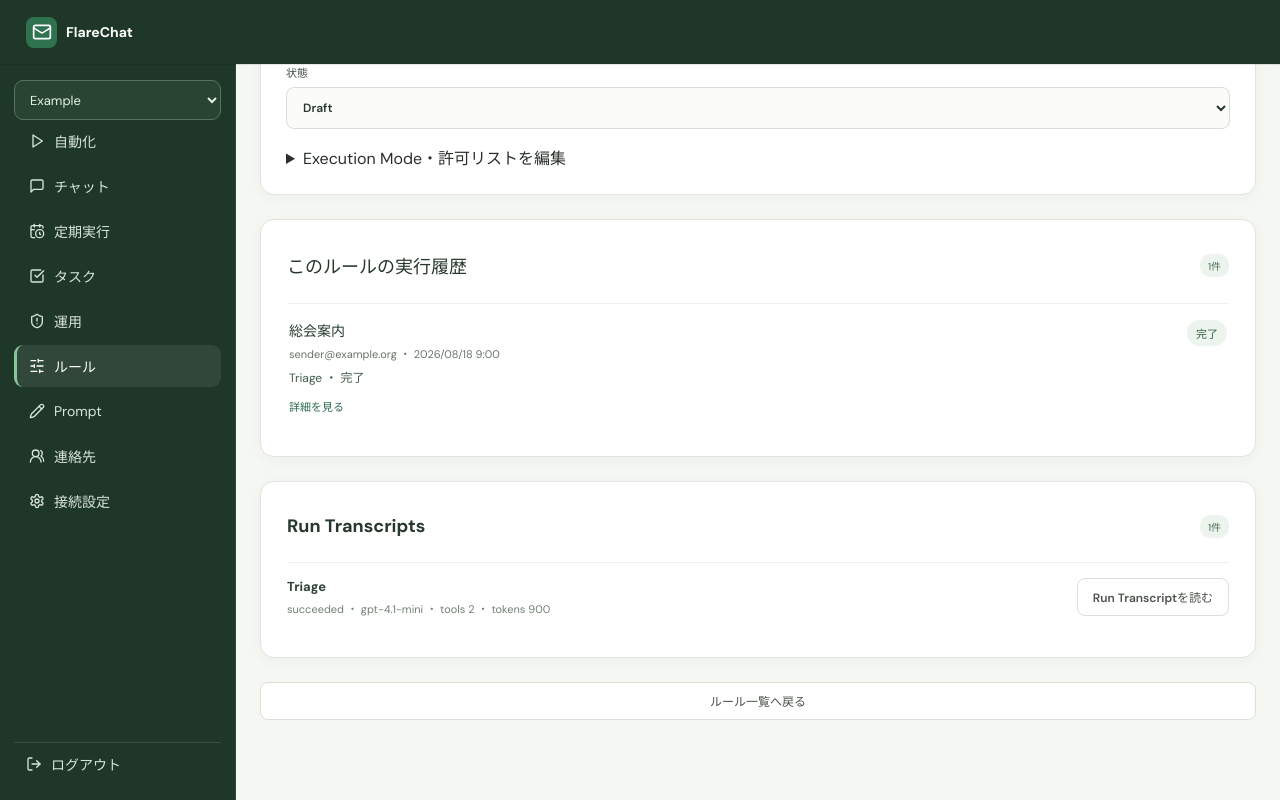
Scenario: Agent Rule screen › opens a Run Transcript beside the run
(page scrolled)
What coordinates should you click on to do the following:
click the button "Run Transcriptを読む"
I would click on:
 (1153, 597)
Its box is [1077,578,1229,616].
(page scrolled)
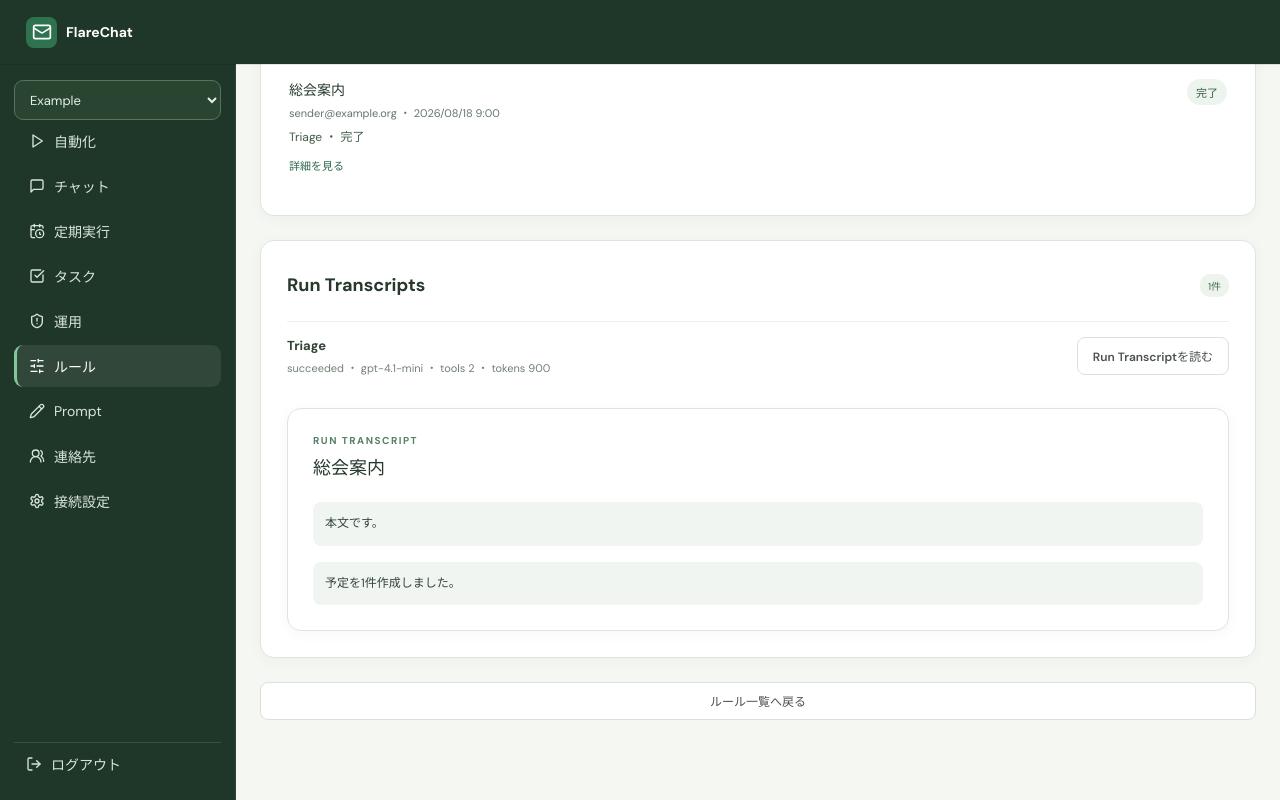
Expected: the text "予定を1件作成しました。" is shown, [313,562,1203,605]
